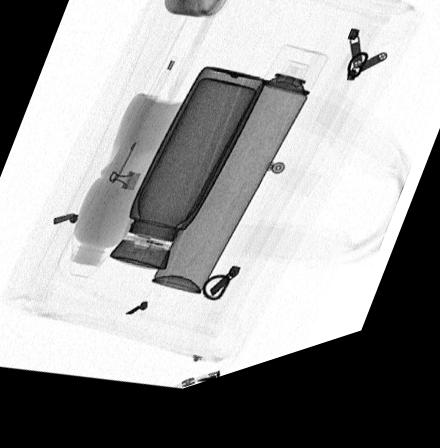Sprayer: (153, 62, 329, 305)
